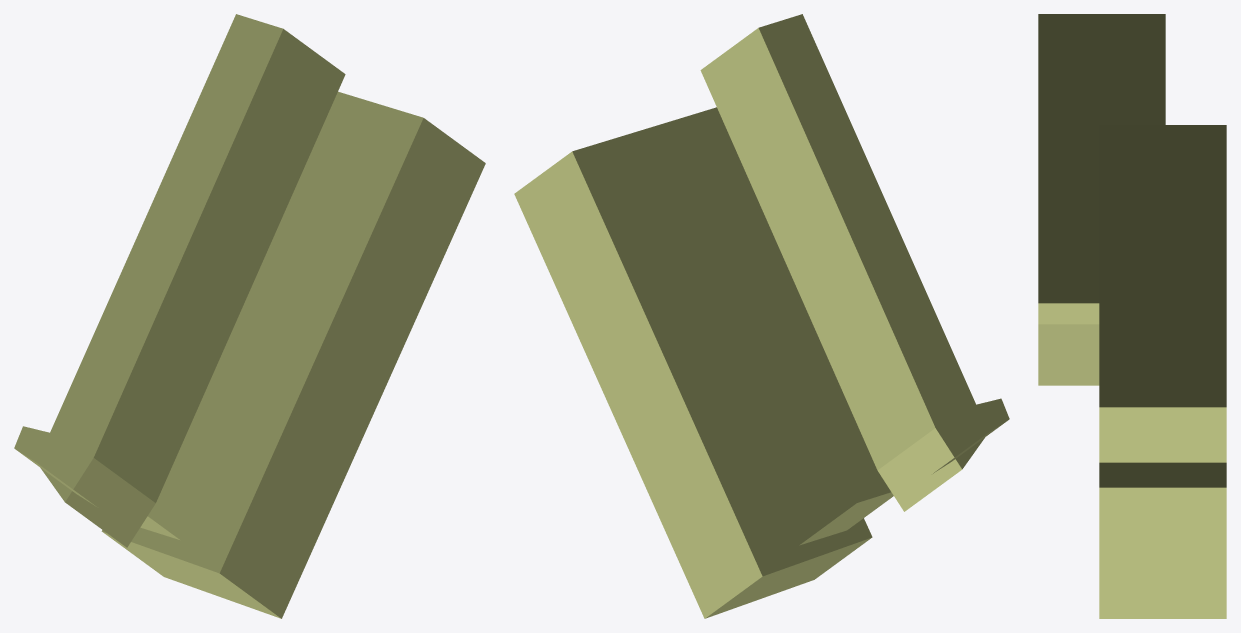
3 renders of one model, left to right at view 1: azimuth 30°, elevation 25°; view 2: azimuth 150°, elevation 25°; view 3: azimuth 270°, elevation 25°, orthographic. The views are drawn at different scales.
Visible parts, largest first — view 1: 0_0_1_3_1_1_2_2_3; view 2: 0_0_1_3_1_1_2_2_3; view 3: 0_0_1_3_1_1_2_2_3.
Boxes of the visible parts, left/top/right/bottom form: 0_0_1_3_1_1_2_2_3: left=14, top=14, right=485, bottom=618; 0_0_1_3_1_1_2_2_3: left=514, top=14, right=1009, bottom=618; 0_0_1_3_1_1_2_2_3: left=1038, top=14, right=1226, bottom=618.
Size of the model in its own units: 36.7 by 46.65 by 13.3.
